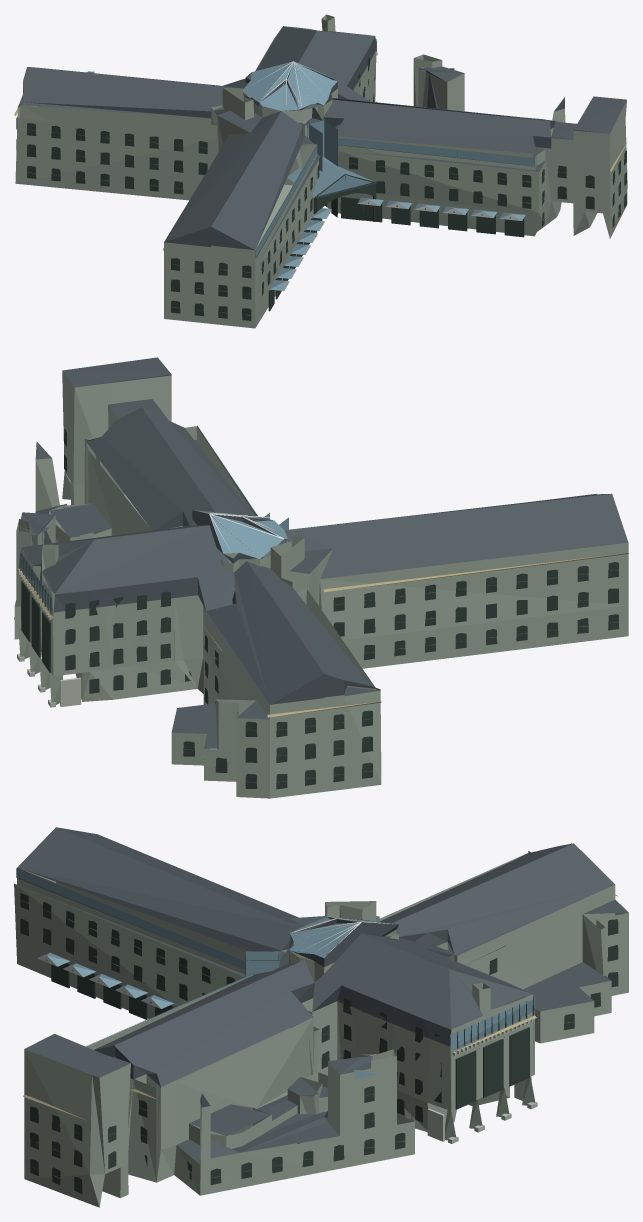
Rendered from max-euwe-centrum.lod1.glb.
3 views of the same model, one above another, from view 1: azimuth 30°, elevation 25°; view 2: azimuth 150°, elevation 25°; view 3: azimuth 270°, elevation 25° (orthographic). The views are drawn at different scales.
Visible parts, largest first — view 1: max-euwe-centrum; view 2: max-euwe-centrum; view 3: max-euwe-centrum.
Boxes of the visible parts, box(x1,y1,x2,y2) form: max-euwe-centrum: box(14, 14, 627, 328); max-euwe-centrum: box(14, 357, 628, 798); max-euwe-centrum: box(14, 827, 628, 1207).
Bounding box in the file's own units: 73.35 × 18.31 × 68.21.
